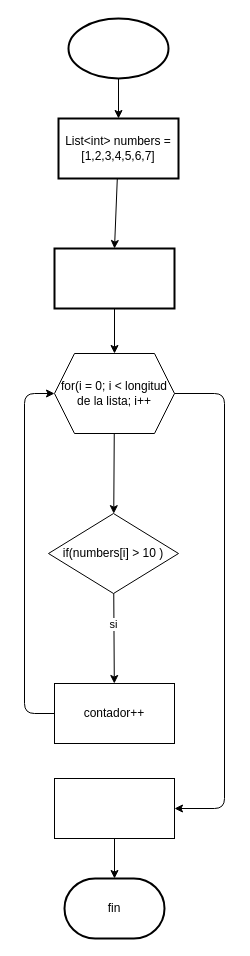
Some shapes in this 250 by 956 pixel diagram are drawn without their labels. The shapes that lost their labels are listed below. From the top down, each one's centre as x and y in pixels, then its label:
At pixel 118 48: "main".
At pixel 114 278: "int contador = 0".
At pixel 114 808: "print contador".
